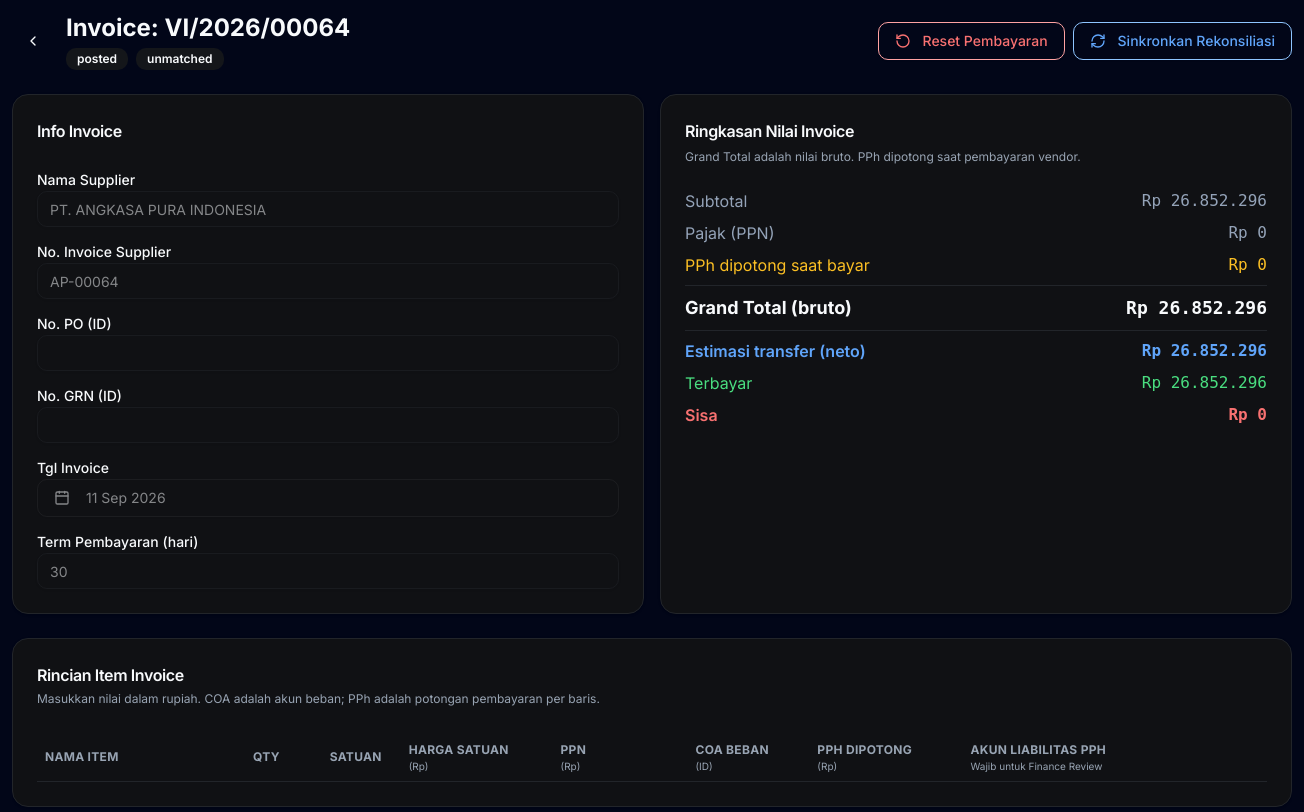
Test: vendor invoice payment status › keeps sync available when the invoice is fully paid but status is still posted
The image size is (1304, 812).
Check: the text "posted" is shown, box [66,48,128,70]
Click the button "Sinkronkan Rekonsiliasi".
click(1182, 41)  # box [1073,22,1292,60]
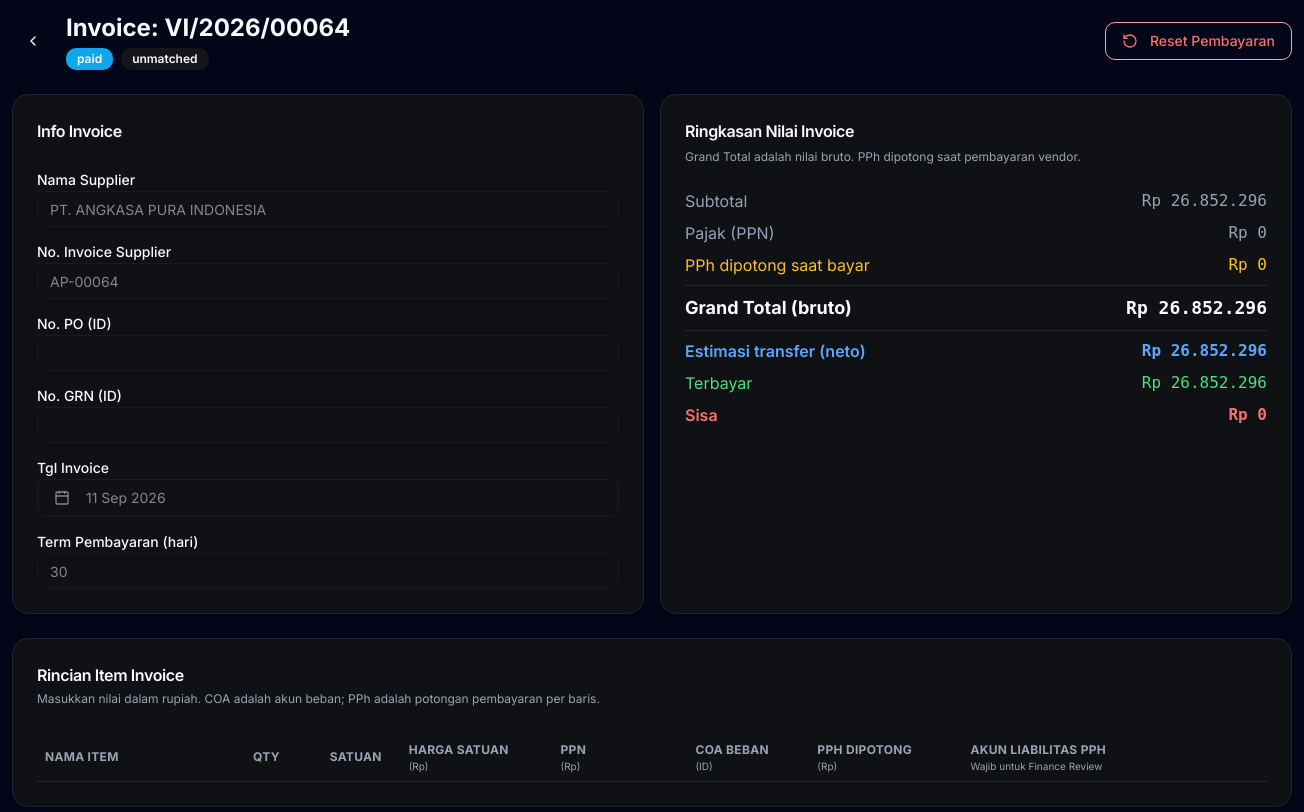
Check: the text "paid" is shown, box [66,48,113,70]
